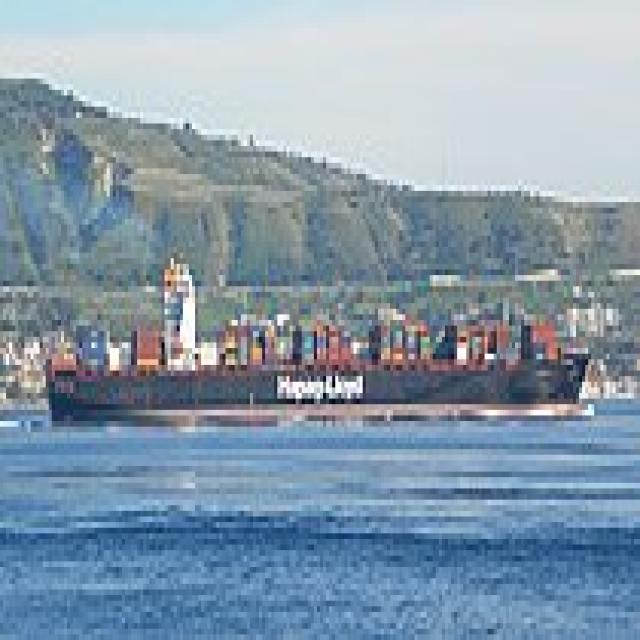Cargo: (40, 247, 591, 415)
